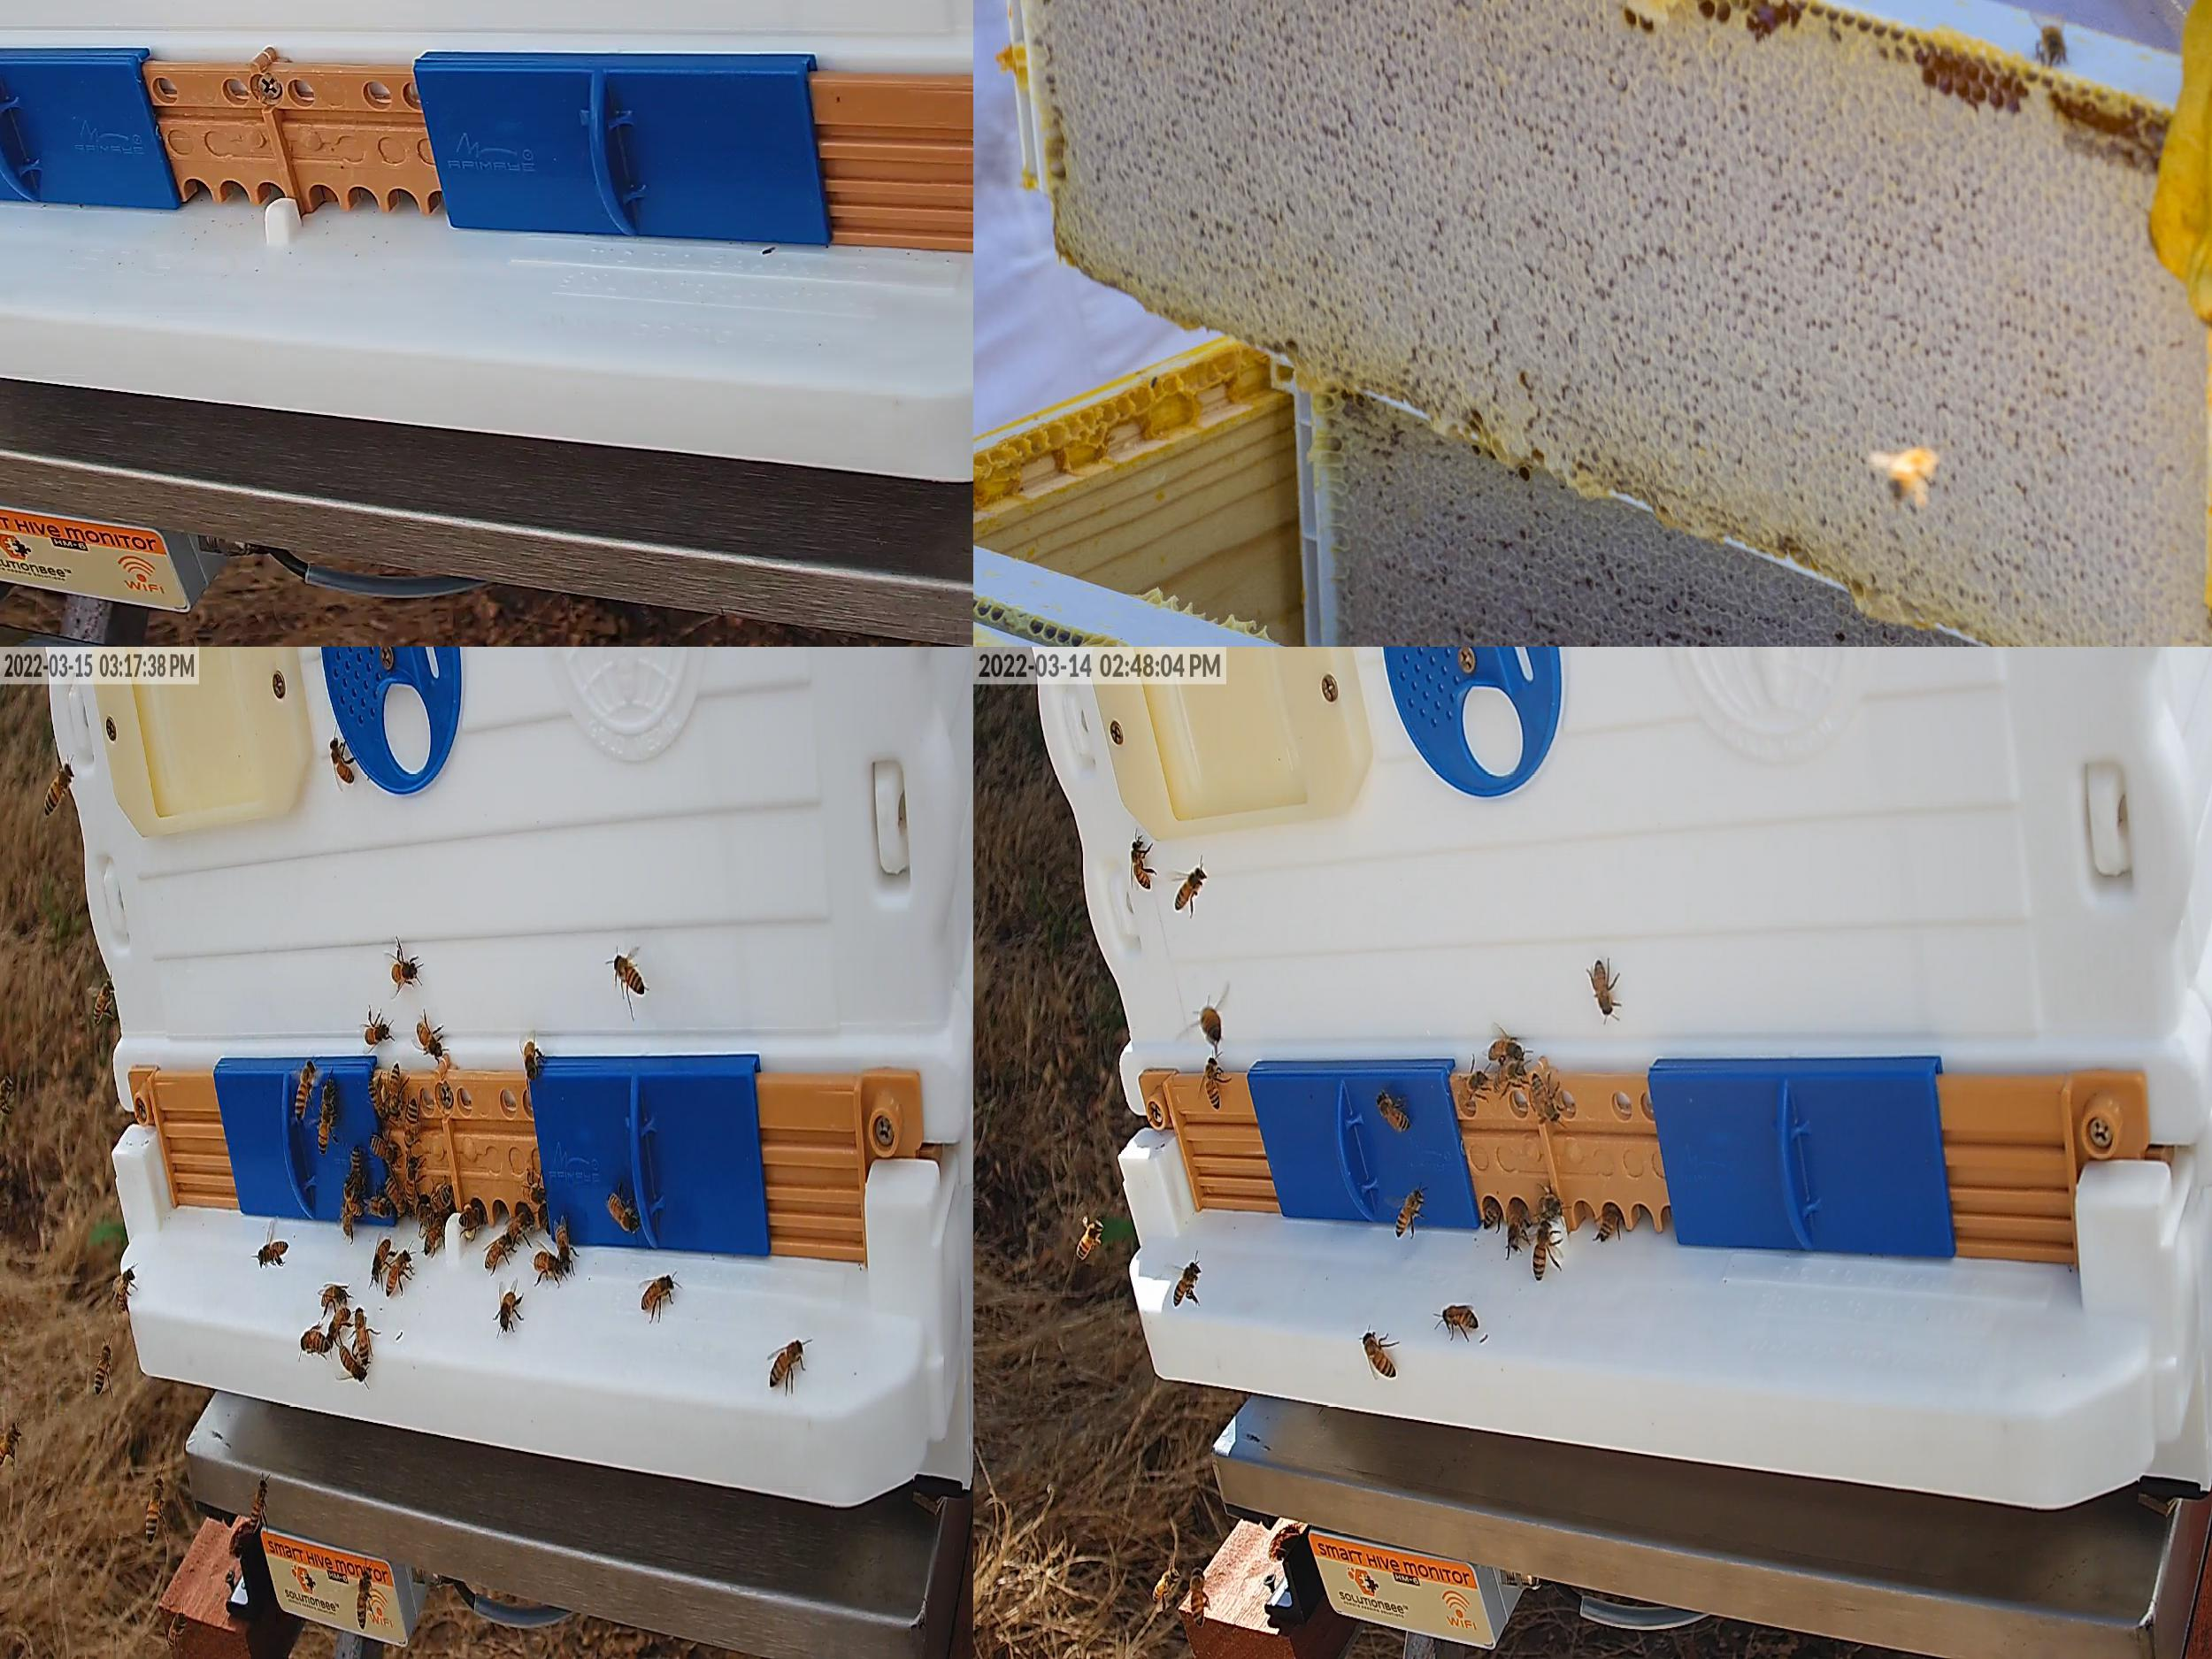bee: (1888, 443, 1939, 502), (45, 762, 73, 817), (1395, 1188, 1425, 1237), (770, 1342, 803, 1385), (145, 1474, 164, 1546), (1366, 1333, 1397, 1377), (608, 1194, 639, 1234), (2040, 21, 2069, 63), (1176, 866, 1205, 908), (385, 1249, 411, 1297), (1533, 1073, 1559, 1121), (1172, 1260, 1198, 1307), (1590, 960, 1613, 1014), (294, 1060, 314, 1122), (643, 1274, 674, 1310), (615, 955, 644, 993), (331, 739, 355, 782), (1130, 840, 1151, 890), (1507, 1199, 1527, 1249), (1379, 1093, 1409, 1127), (1533, 1222, 1550, 1281), (92, 976, 113, 1025), (1494, 1063, 1526, 1093), (357, 1563, 371, 1629), (416, 1021, 442, 1056), (94, 1344, 111, 1396), (0, 1424, 21, 1467), (249, 1476, 266, 1528), (368, 1134, 397, 1164), (1444, 1305, 1477, 1331), (341, 1345, 366, 1380), (1078, 1223, 1103, 1258), (371, 1237, 390, 1281), (385, 1175, 408, 1211), (1486, 1039, 1522, 1061), (355, 1307, 369, 1366), (486, 1237, 512, 1269), (1205, 1058, 1221, 1108), (258, 1241, 287, 1267), (1155, 1567, 1179, 1598), (1540, 1190, 1562, 1223), (507, 1213, 533, 1241), (1599, 1204, 1620, 1239), (319, 1105, 333, 1155), (517, 1180, 543, 1206), (1193, 1568, 1205, 1624), (300, 1330, 329, 1352), (556, 1225, 570, 1272), (345, 1178, 362, 1215), (1202, 1009, 1221, 1042), (1461, 1072, 1484, 1100), (117, 1269, 132, 1309), (500, 1291, 516, 1331), (1484, 1194, 1503, 1225), (406, 1098, 418, 1147), (535, 1253, 561, 1276), (524, 1039, 538, 1079), (366, 1023, 388, 1047), (406, 1157, 418, 1202), (418, 1204, 442, 1227), (167, 1614, 185, 1645), (388, 1063, 399, 1115), (331, 1307, 352, 1333), (0, 1073, 12, 1115), (430, 1183, 451, 1208), (390, 964, 418, 981), (369, 1197, 392, 1218), (324, 1080, 334, 1122), (322, 1286, 347, 1303), (352, 1147, 362, 1183), (341, 1202, 352, 1237)
pollenbee: (460, 1202, 484, 1236), (369, 1077, 388, 1119), (425, 1218, 444, 1255)
